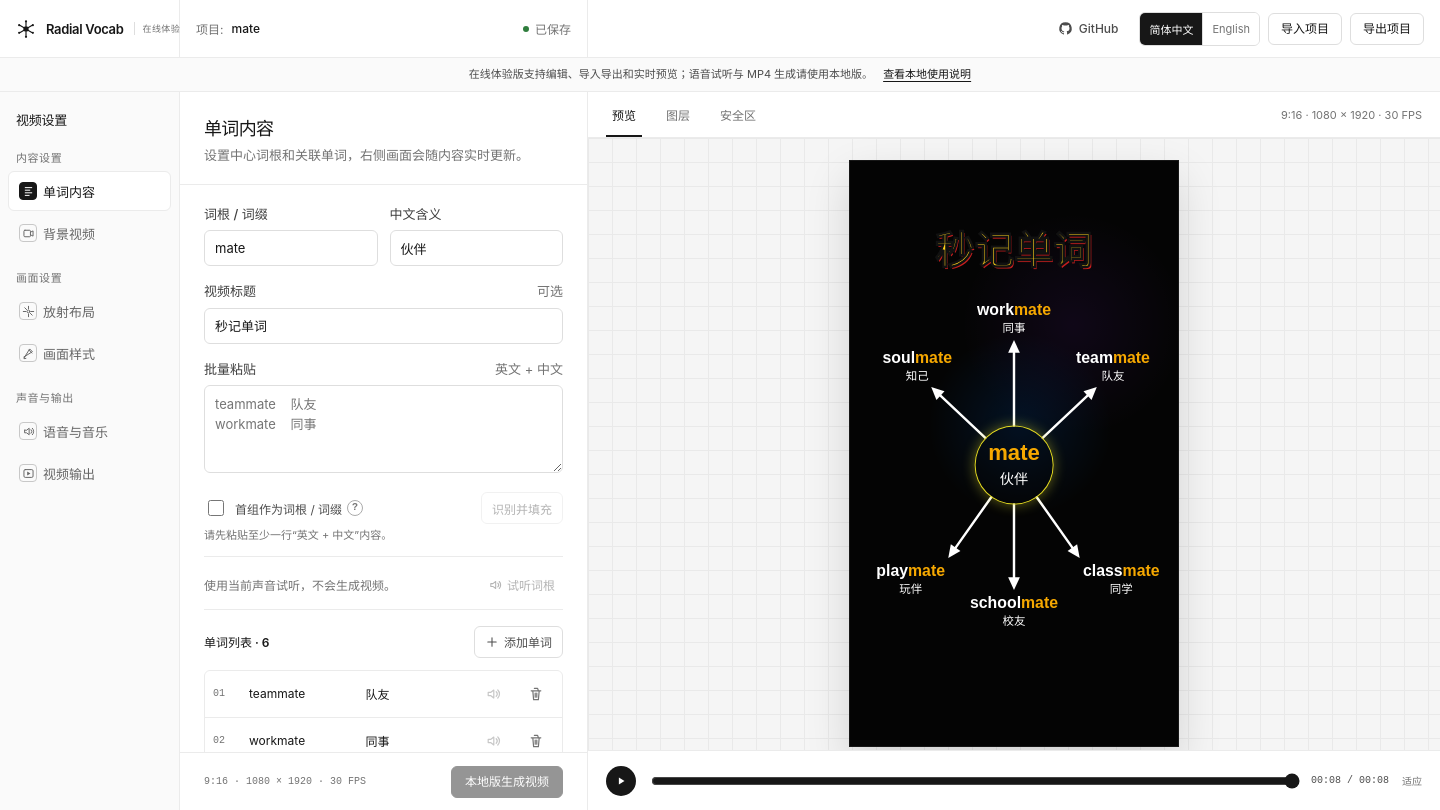
Test case: three-column editor › runs the public demo without contacting local APIs
Check: the element showing "在线体验版支持编辑、导入导出和实时预览；语音试听与 MP4 生成请使用本地版。 查看本地使用说明" is shown, box [0,58,1439,92]
Check: the text "在线体验" is shown, box [134,22,180,35]
Click the button "语音与音乐".
click(90, 431)  # box [8,411,171,451]
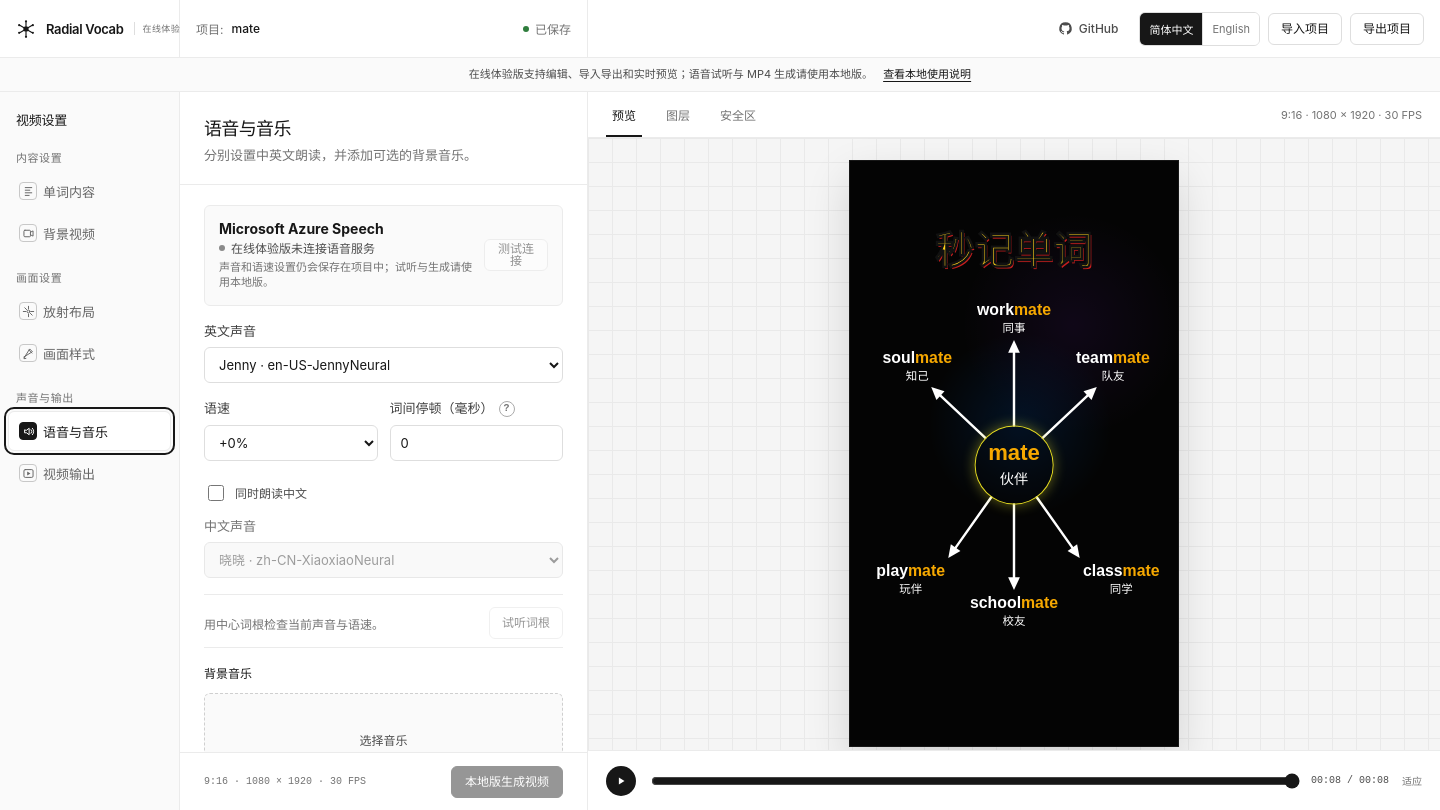
Check: the button "试听词根" is disabled, box [489,607,563,639]
Check: the text "在线体验版未连接语音服务" is shown, box [219,239,375,256]
Check: the button "测试连接" is disabled, box [484,239,548,271]
